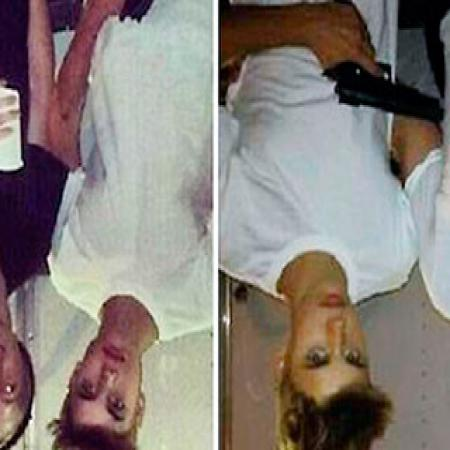Pistol: (319, 5, 443, 128)
